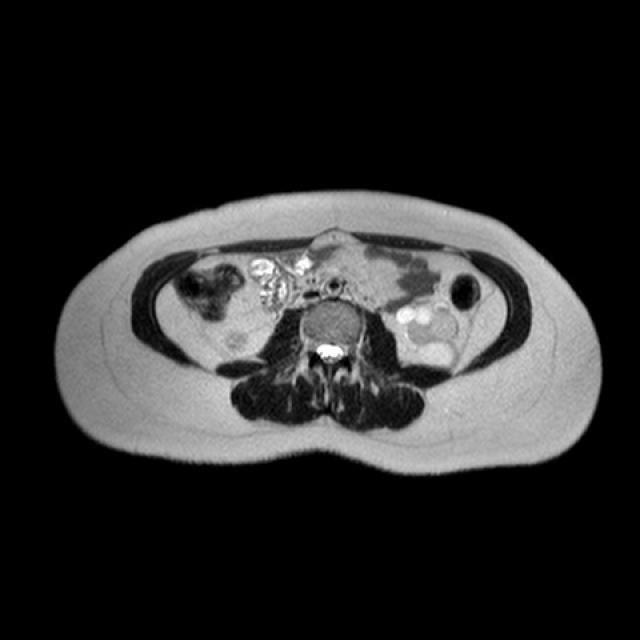sol: (394, 297, 462, 370)
